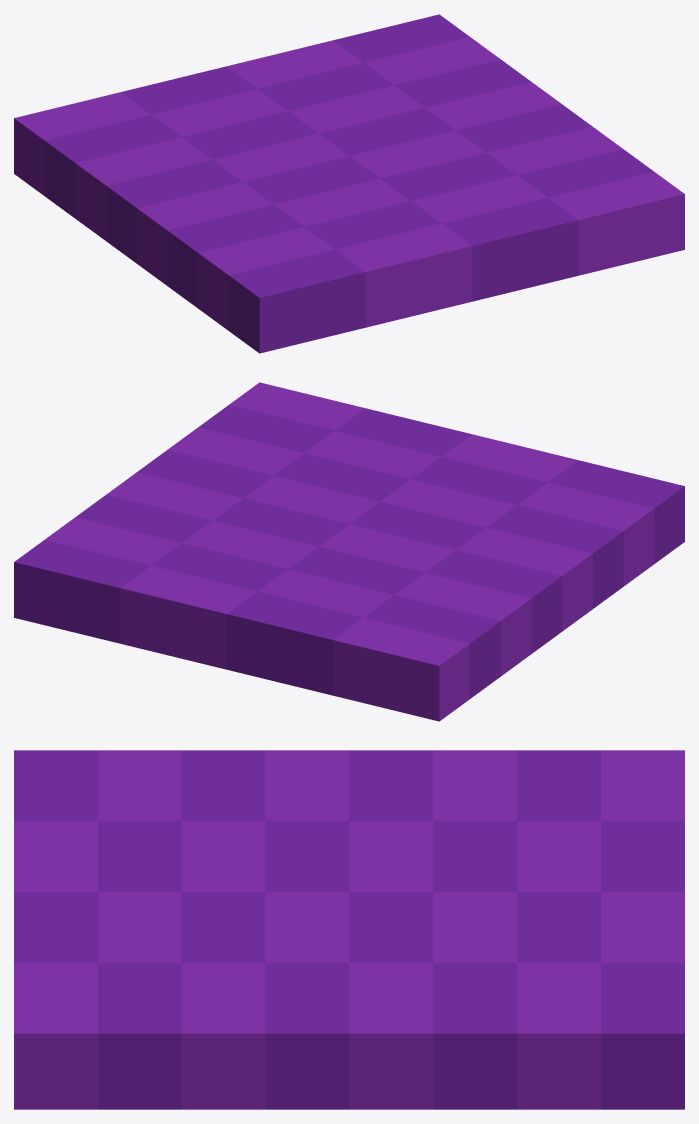
Rendered from carpet_purple_model.glb.
3 views of the same model, one above another, from view 1: azimuth 30°, elevation 25°; view 2: azimuth 150°, elevation 25°; view 3: azimuth 270°, elevation 25° (orthographic). The views are drawn at different scales.
Parts seen in each view (by area): view 1: Untitled; view 2: Untitled; view 3: Untitled.
Part boxes in pixels (bbox=[...]): Untitled: bbox=[14, 14, 684, 353]; Untitled: bbox=[14, 382, 684, 721]; Untitled: bbox=[14, 750, 684, 1109].
Bounding box in the file's own units: 0.8 × 0.1 × 0.8.
Materials: 1 (1 with a texture image).
